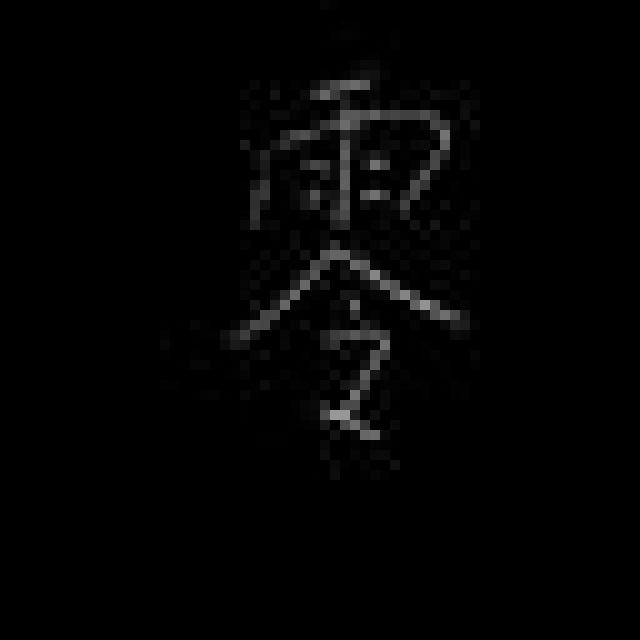0 -zero-: (228, 70, 474, 460)
